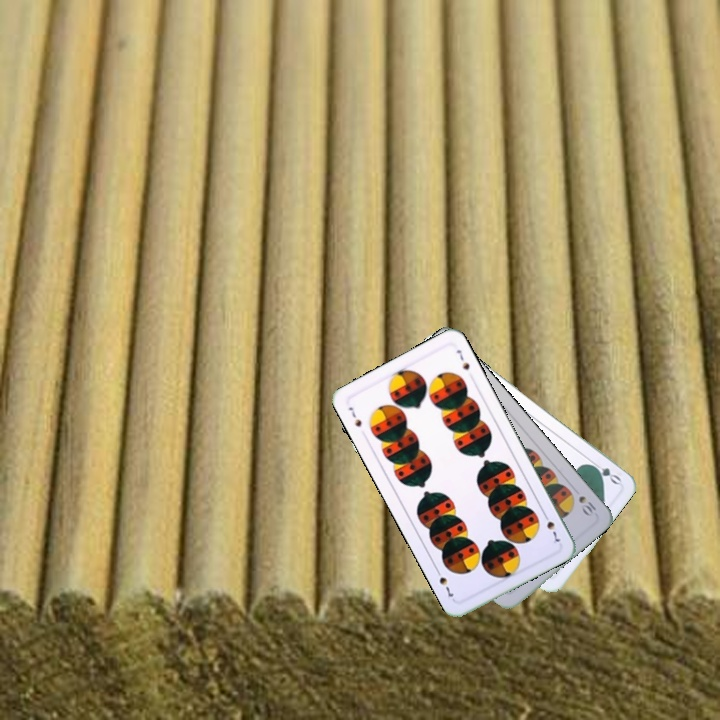GO: (585, 457, 623, 487)
S10: (574, 492, 600, 519)
S7: (539, 508, 562, 547), (344, 403, 364, 429)
